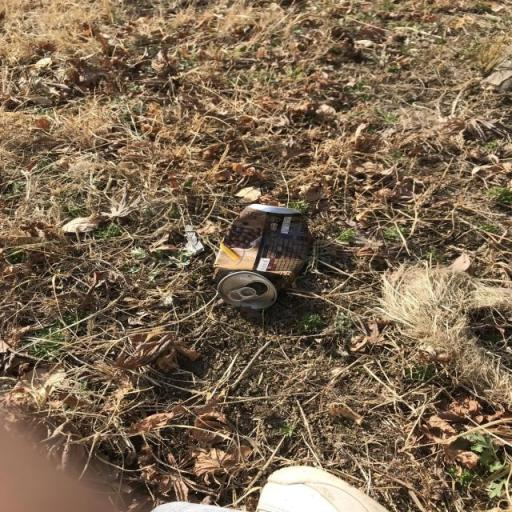metal: (189, 190, 336, 332)
